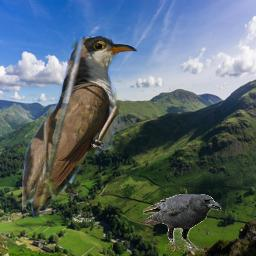Crow: (139, 194, 222, 252)
Cuckoo: (22, 36, 166, 217)
